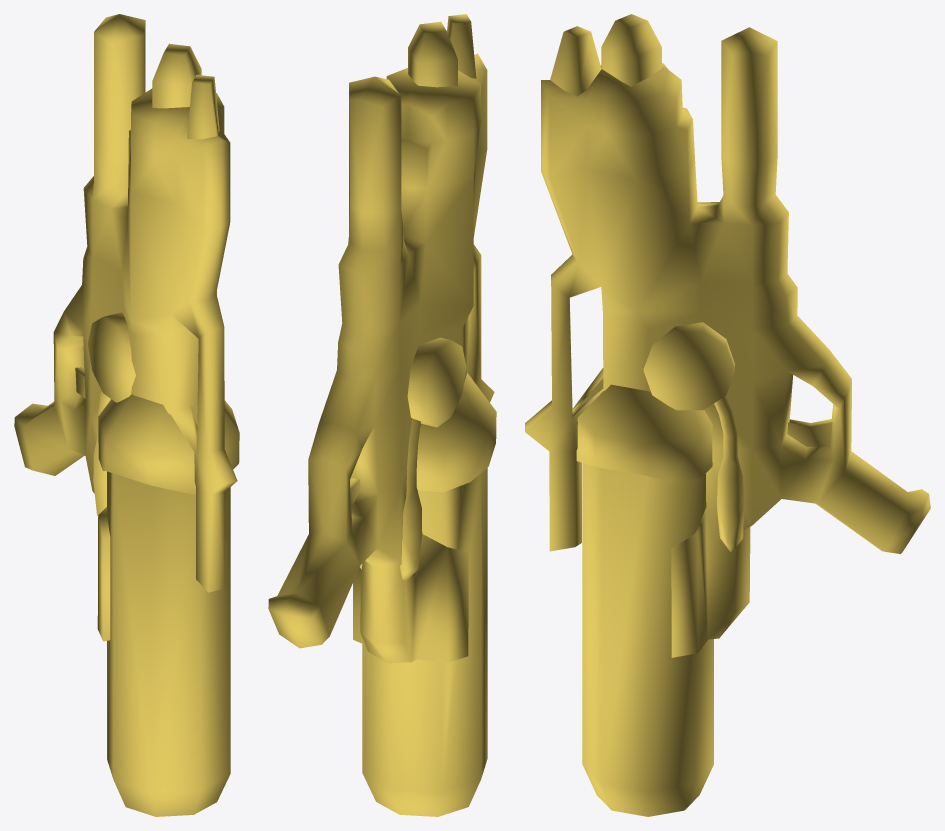
3 renders of one model, left to right at view 1: azimuth 30°, elevation 25°; view 2: azimuth 150°, elevation 25°; view 3: azimuth 270°, elevation 25°, orthographic. The views are drawn at different scales.
Parts seen in each view (by area): view 1: 1213141; view 2: 1213141; view 3: 1213141.
Part boxes in pixels (x1=…): 1213141: x1=14, y1=14, x2=239, y2=816; 1213141: x1=268, y1=14, x2=496, y2=816; 1213141: x1=525, y1=14, x2=930, y2=816.
Size of the model in its own units: 17.26 by 100 by 46.54.
